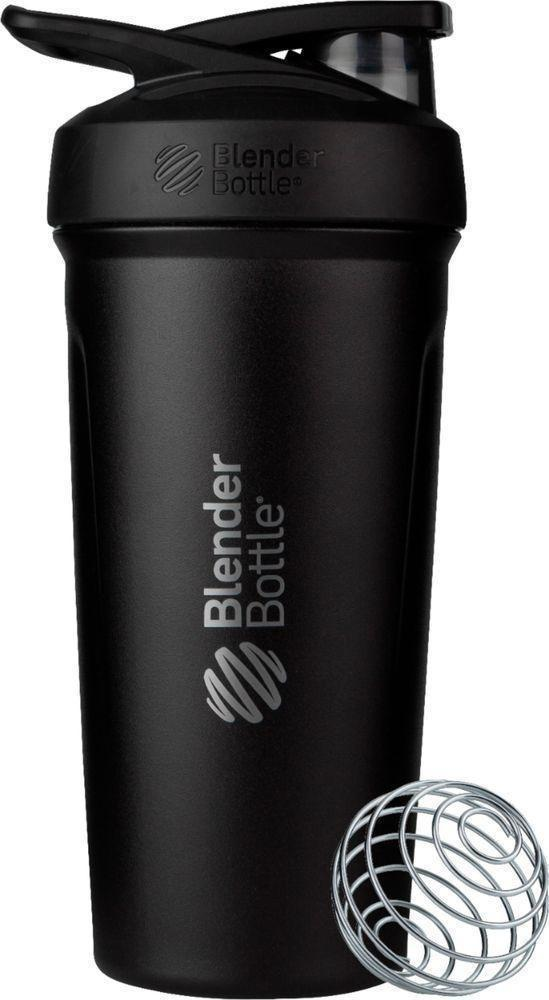gym bottle: (1, 1, 462, 1000)
